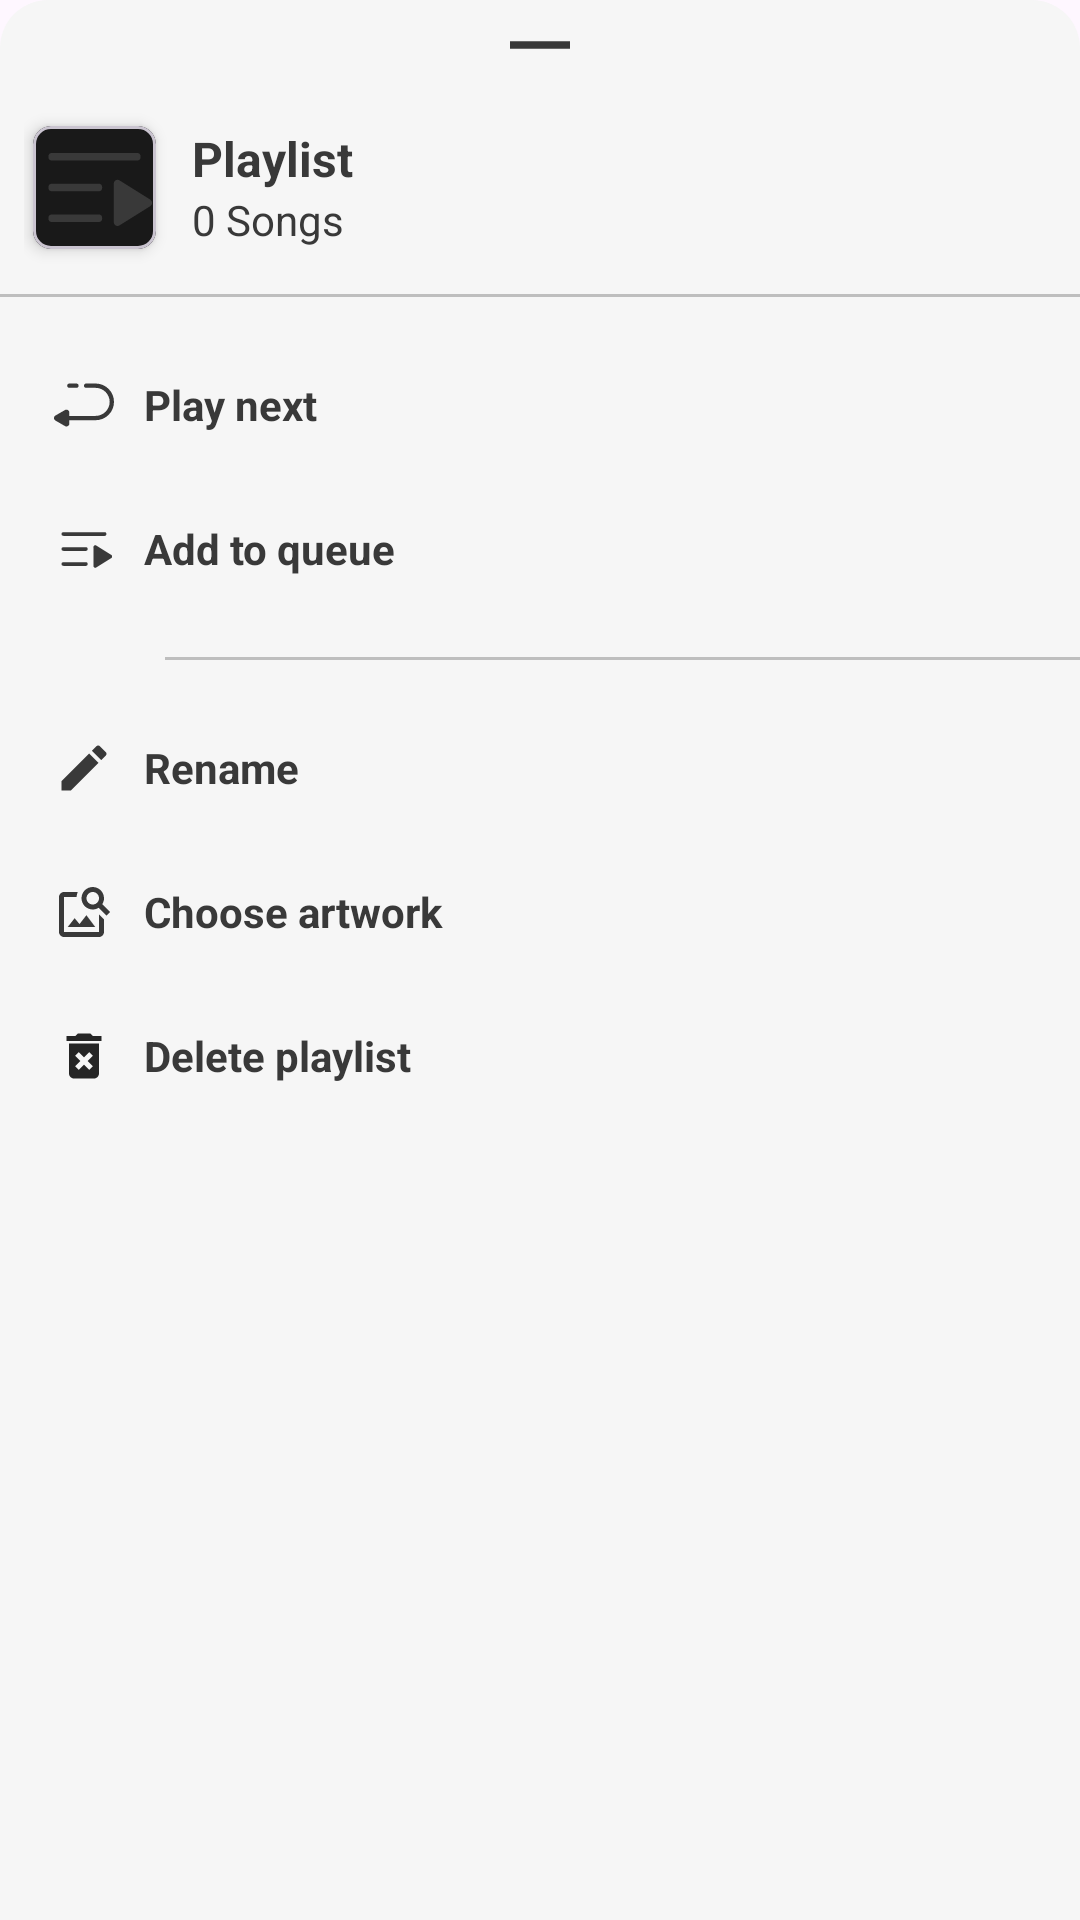

Where icons sit on this 1080 × 1920 app screen, as (x1, y1, x2, y2):
add next: (54, 383, 114, 427)
music list: (33, 126, 156, 249)
tag edit: (61, 745, 107, 791)
